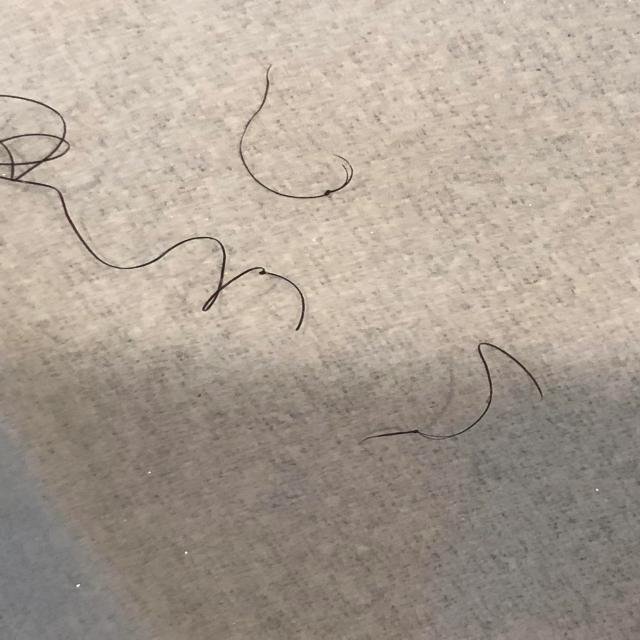hair: (353, 333, 550, 448), (2, 75, 112, 269), (123, 232, 316, 336), (231, 59, 365, 201)
